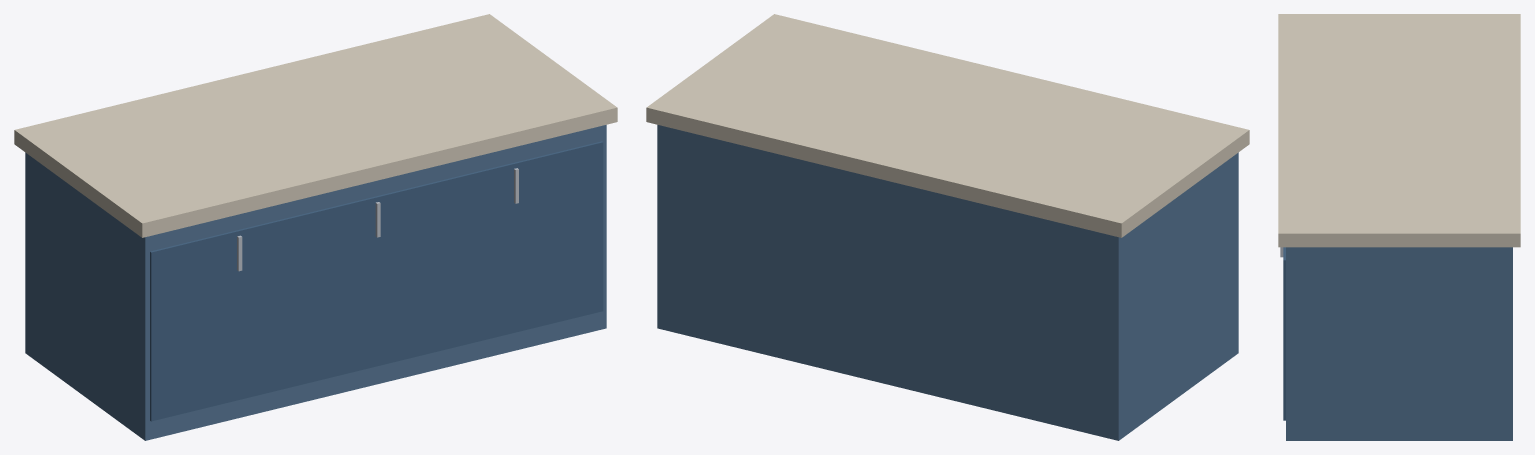
File: kitchen_island.fbx
3 views of the same model, side by side, from view 1: azimuth 30°, elevation 25°; view 2: azimuth 150°, elevation 25°; view 3: azimuth 270°, elevation 25° (orthographic). The views are drawn at different scales.
Parts seen in each view (by area): view 1: kitchen_island; view 2: kitchen_island; view 3: kitchen_island.
Part boxes in pixels (x1,y1,x2,y2): kitchen_island: [14, 14, 617, 440]; kitchen_island: [646, 14, 1249, 440]; kitchen_island: [1278, 14, 1520, 440].
Bounding box in the file's own units: 2.06 × 0.92 × 0.96.
